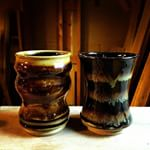cups: (77, 48, 140, 138), (12, 48, 74, 138)
